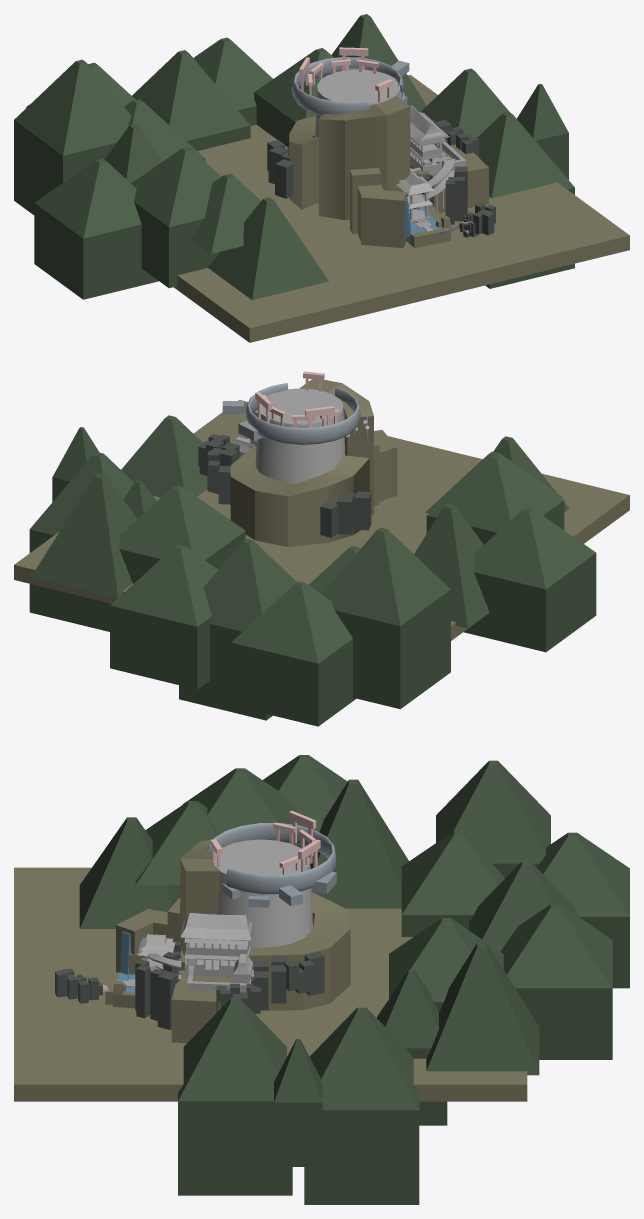
The model's file is team4_level.fbx.
The picture shows the model from 3 angles, top to bottom: view 1: azimuth 30°, elevation 25°; view 2: azimuth 150°, elevation 25°; view 3: azimuth 270°, elevation 25°; orthographic projection. The views are drawn at different scales.
Parts seen in each view (by area): view 1: pCube193, pCube182, pCube181, pCube190, group14, pCube180, pCube183, pCube192, pCube179, pCube185, pCube189, pCube186 (+15 smaller); view 2: pCube181, pCube193, pCube182, pCube176, pCube185, pCube175, pCube183, pCube188, pCube186, pCube190, pCube189, pCylinder1 (+15 smaller); view 3: pCube193, pCube189, pCube192, pCube185, pCube188, pCube181, pCube177, pCube184, pCube176, pCube180, pCylinder1, pCube191 (+17 smaller).
Part boxes in pixels (<box>): pCube193: <box>174,75,629,342</box>; pCube182: <box>34,158,158,299</box>; pCube181: <box>14,59,131,214</box>; pCube190: <box>131,147,221,288</box>; group14: <box>318,95,410,220</box>; pCube180: <box>208,197,328,299</box>; pCube183: <box>132,50,250,150</box>; pCube192: <box>477,112,574,288</box>; pCube179: <box>191,173,260,253</box>; pCube185: <box>193,37,272,125</box>; pCube189: <box>421,68,509,137</box>; pCube186: <box>254,48,333,147</box>; pCube181: <box>322,527,450,709</box>; pCube193: <box>14,400,629,640</box>; pCube182: <box>463,507,596,652</box>; pCube176: <box>231,581,355,726</box>; pCube185: <box>110,544,218,689</box>; pCube175: <box>230,447,369,547</box>; pCube183: <box>179,539,296,720</box>; pCube188: <box>31,473,137,597</box>; pCube186: <box>108,485,245,609</box>; pCube190: <box>426,454,564,544</box>; pCube189: <box>29,452,134,631</box>; pCylinder1: <box>255,388,345,483</box>; pCube193: <box>14,867,527,1101</box>; pCube189: <box>304,1007,419,1204</box>; pCube192: <box>178,998,292,1195</box>; pCube185: <box>500,904,612,1059</box>; pCube188: <box>426,942,539,1075</box>; pCube181: <box>436,760,550,877</box>; pCube177: <box>309,779,408,908</box>; pCube184: <box>401,830,504,936</box>; pCube176: <box>536,832,629,988</box>; pCube180: <box>79,817,180,928</box>; pCylinder1: <box>212,839,312,950</box>; pCube191: <box>274,1039,322,1166</box>.
Size of the model in its own units: 11157 by 4690 by 10237.
